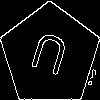U: (24, 30, 71, 86)
